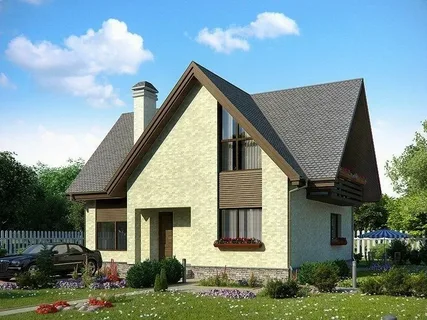private_hause: (79, 79, 383, 276)
